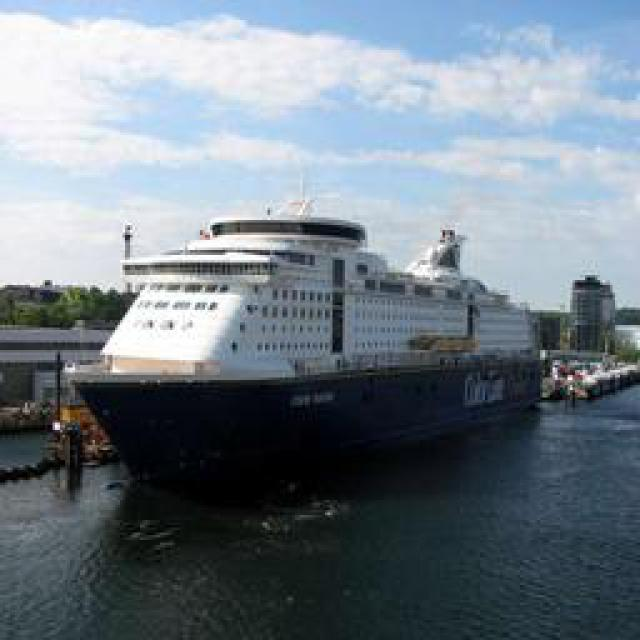Ship: (72, 200, 542, 490)
